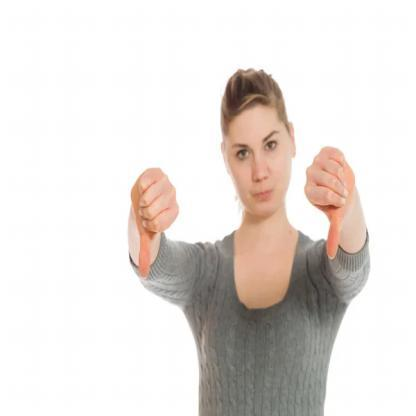thumb_down: (126, 160, 180, 283), (302, 140, 356, 262)
